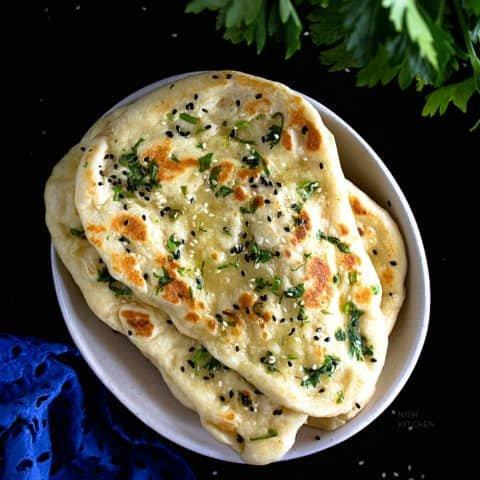Naan: (45, 68, 435, 463)
